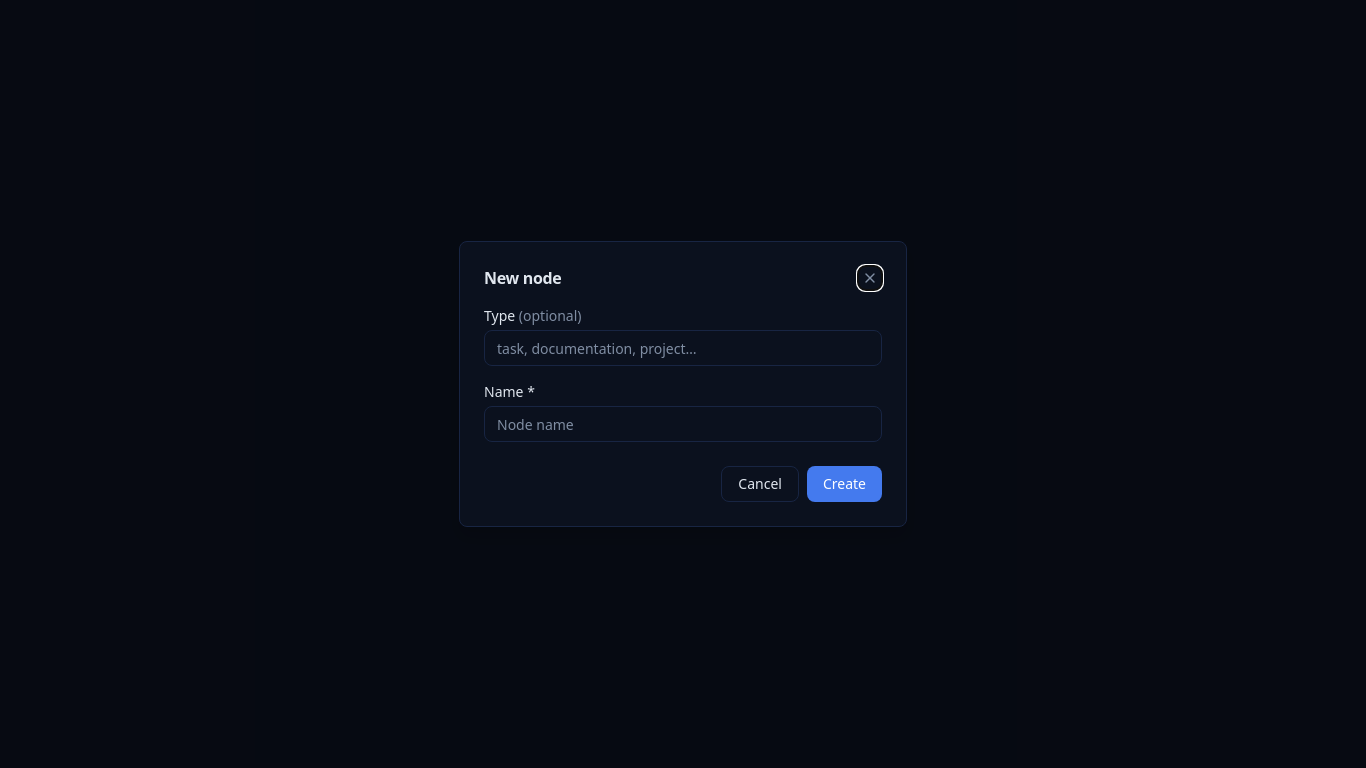
Test: CreateNodeDialog › shows status dropdown when type is "task"
The width and height of the screenshot is (1366, 768).
Type "task" into the field labelled "Type (optional)" at coordinates (683, 348), box [484,330,882,366]
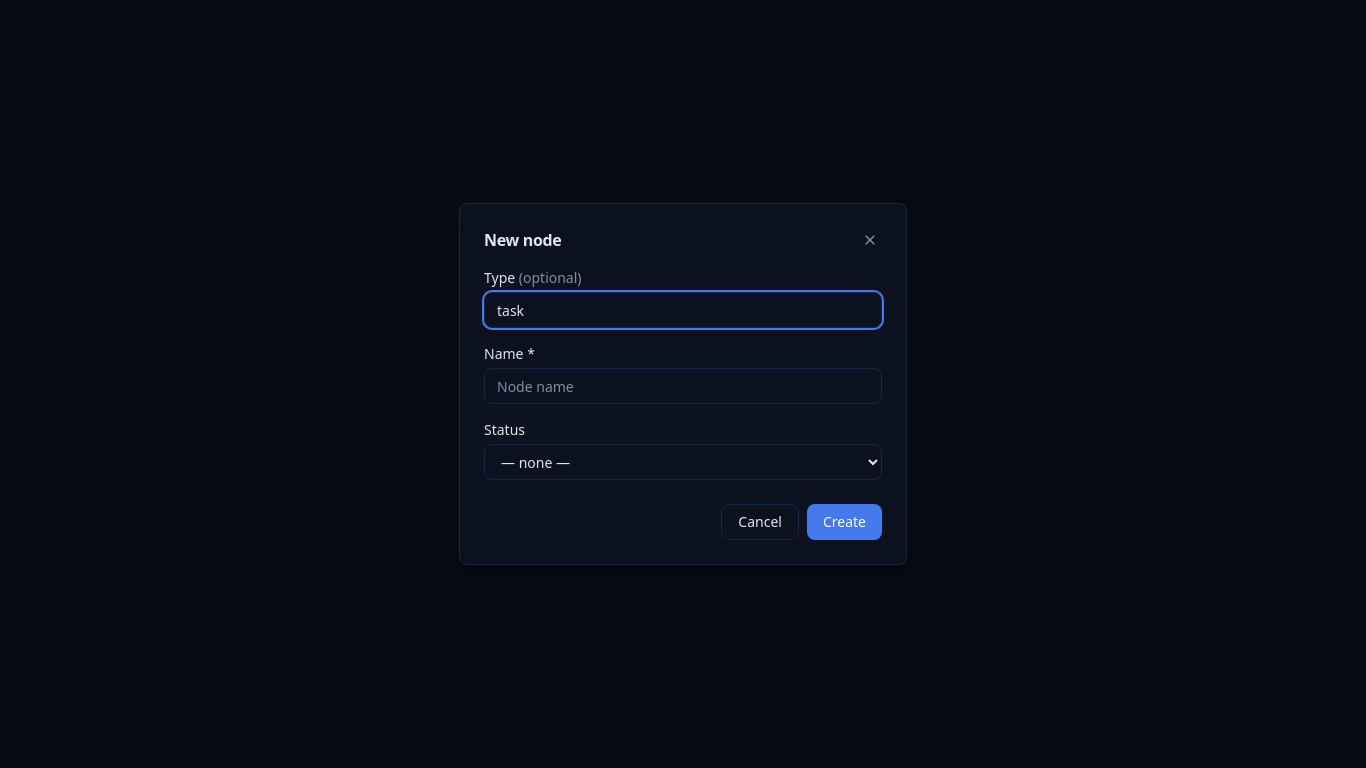
expect the dropdown labelled "Status" is shown: met, box [484,444,882,480]
